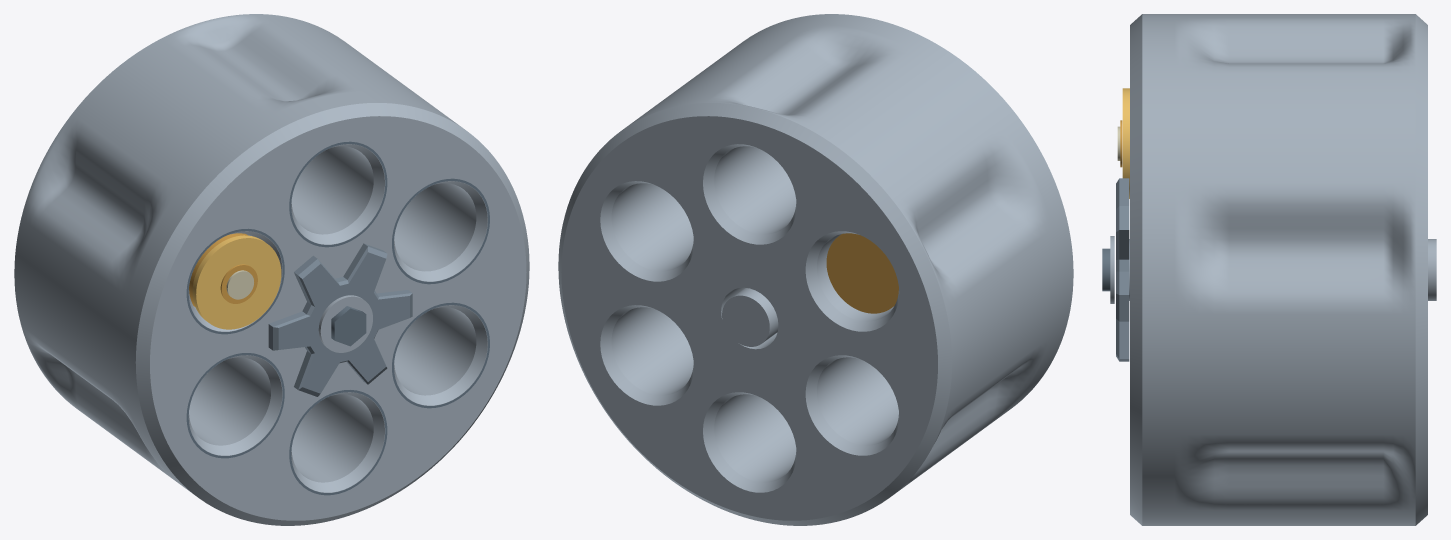
3 views of the same model, side by side, from view 1: azimuth 30°, elevation 25°; view 2: azimuth 150°, elevation 25°; view 3: azimuth 270°, elevation 25° (orthographic). The views are drawn at different scales.
Parts seen in each view (by area): view 1: SixBoreSteelDrum, SixArmExtractor, CaseRim, ChamberEntranceRecesses, ExtractorWasher, HexagonalHub, Primer; view 2: SixBoreSteelDrum, BrassCase, EjectorHub; view 3: SixBoreSteelDrum, SixArmExtractor, CaseRim, EjectorHub, HexagonalHub.
Part boxes in pixels (x1,y1,x2,y2): SixBoreSteelDrum: (14,14,529,525); SixArmExtractor: (268,243,412,396); CaseRim: (192,235,281,329); ChamberEntranceRecesses: (186,141,489,495); ExtractorWasher: (318,295,372,352); HexagonalHub: (331,306,366,346); Primer: (226,270,253,299); SixBoreSteelDrum: (558,14,1073,525); BrassCase: (826,233,898,313); EjectorHub: (722,288,778,346); SixBoreSteelDrum: (1130,14,1427,525); SixArmExtractor: (1116,178,1129,361); CaseRim: (1122,88,1129,198); EjectorHub: (1129,239,1436,300); HexagonalHub: (1102,248,1110,291).
Size of the model in its own units: 2.06 by 2.06 by 1.35.
